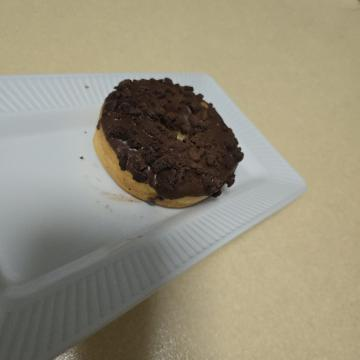doughnut: (60, 107, 220, 276)
